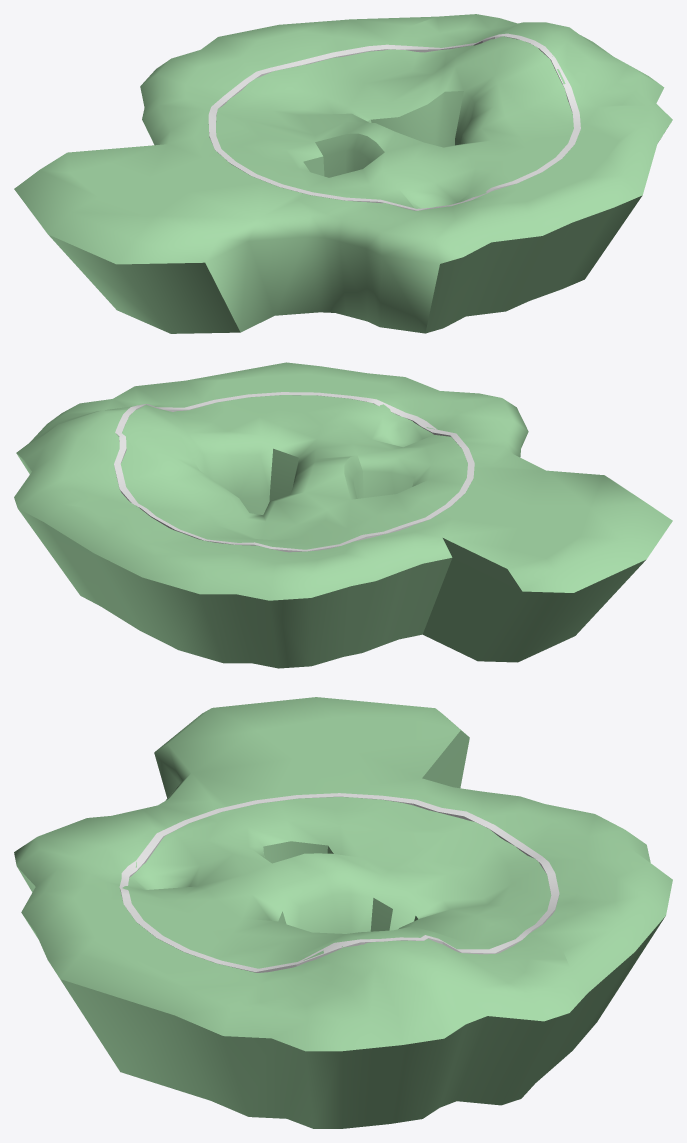
The model's file is stageOne.glb.
3 views of the same model, one above another, from view 1: azimuth 30°, elevation 25°; view 2: azimuth 150°, elevation 25°; view 3: azimuth 270°, elevation 25° (orthographic). The views are drawn at different scales.
Parts seen in each view (by area): view 1: stageOneLand, StageOnePath; view 2: stageOneLand, StageOnePath; view 3: stageOneLand, StageOnePath.
Part boxes in pixels (x1=…): stageOneLand: x1=14, y1=14, x2=672, y2=333; StageOnePath: x1=208, y1=33, x2=580, y2=210; stageOneLand: x1=14, y1=362, x2=672, y2=668; StageOnePath: x1=114, y1=392, x2=474, y2=552; stageOneLand: x1=14, y1=697, x2=672, y2=1128; StageOnePath: x1=119, y1=793, x2=559, y2=972.
Bounding box in the file's own units: 489 × 109 × 389.
